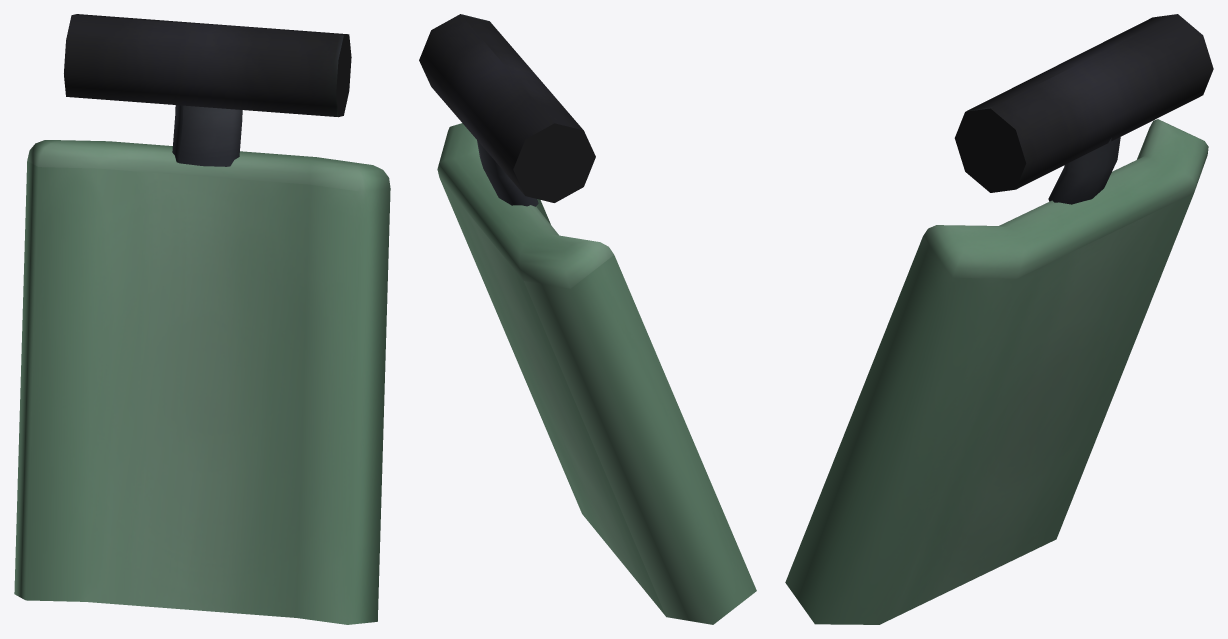
The model's file is SM_chair.FBX.
The picture shows the model from 3 angles, left to right: view 1: azimuth 30°, elevation 25°; view 2: azimuth 150°, elevation 25°; view 3: azimuth 270°, elevation 25°; orthographic projection. The views are drawn at different scales.
Parts seen in each view (by area): view 1: chair; view 2: chair; view 3: chair.
Part boxes in pixels (<box>): chair: <box>14,14,390,624</box>; chair: <box>419,14,756,624</box>; chair: <box>785,14,1213,624</box>.
Size of the model in its own units: 471 by 701 by 492.
Materials: 1 (1 with a texture image).
